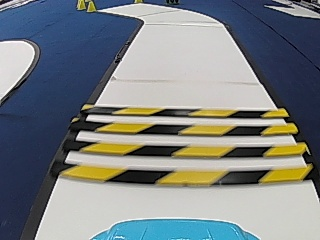bump: (82, 106, 288, 187)
